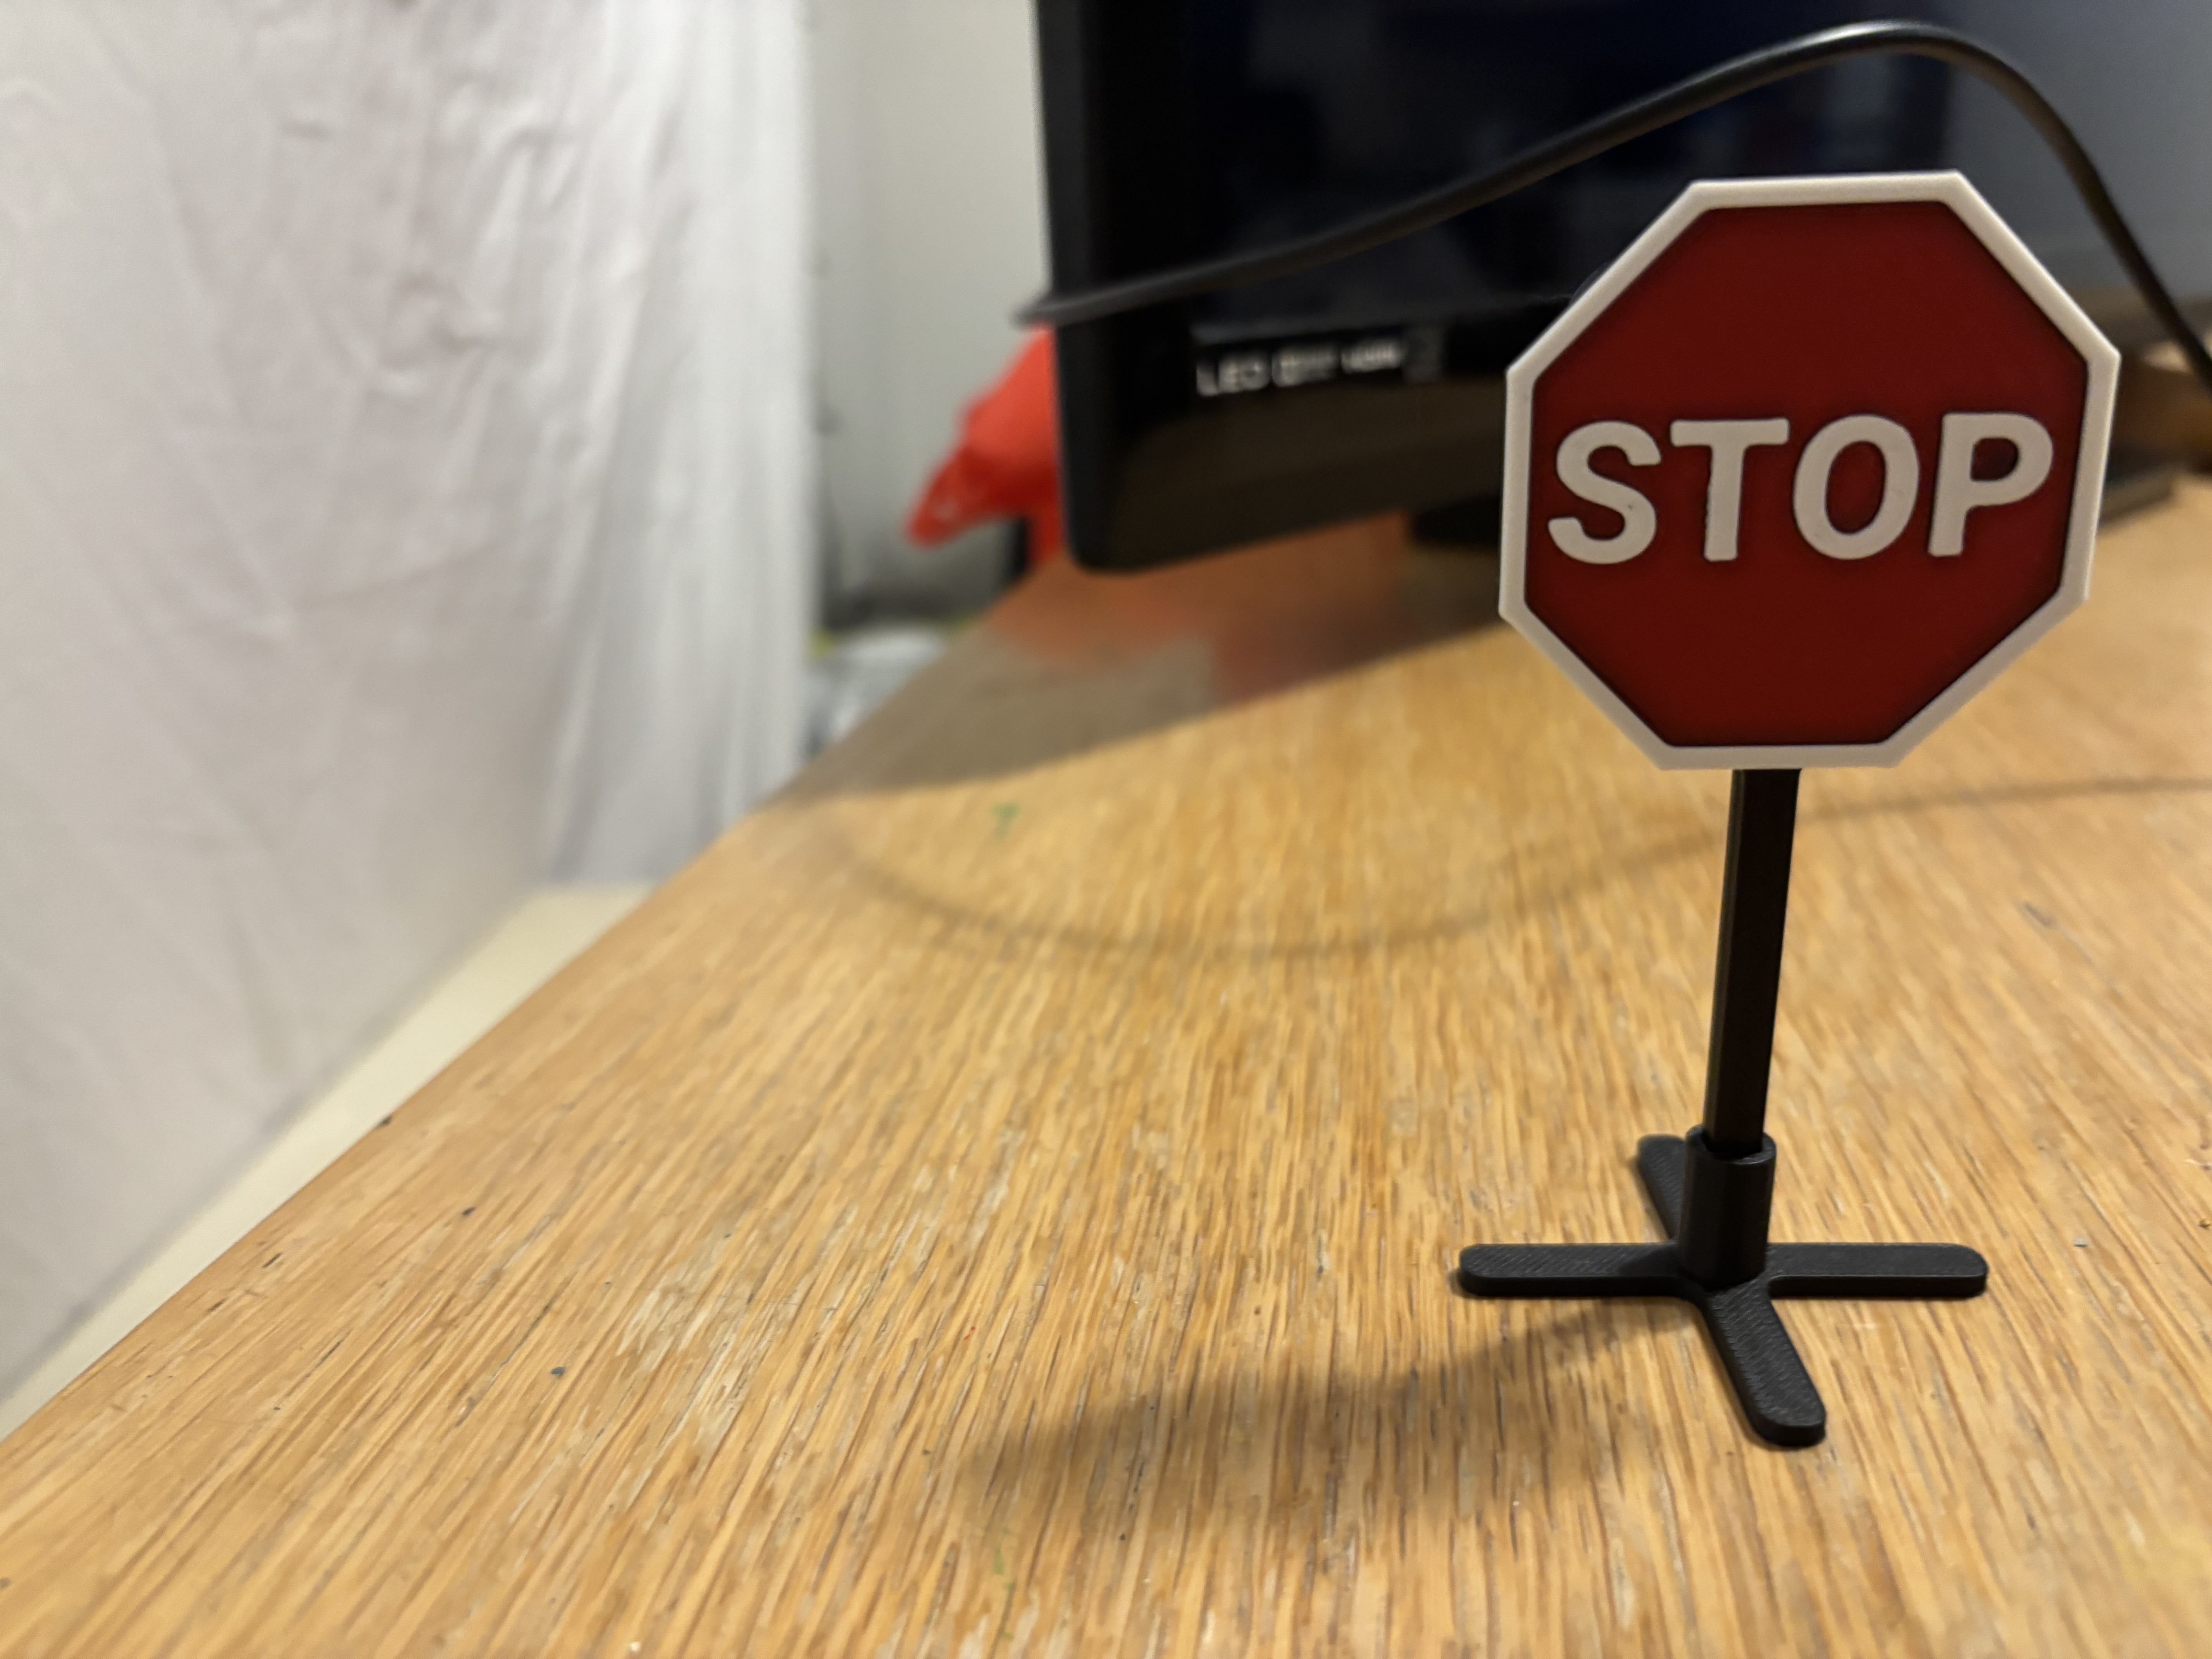sign_stop: (1479, 166, 2111, 786)
